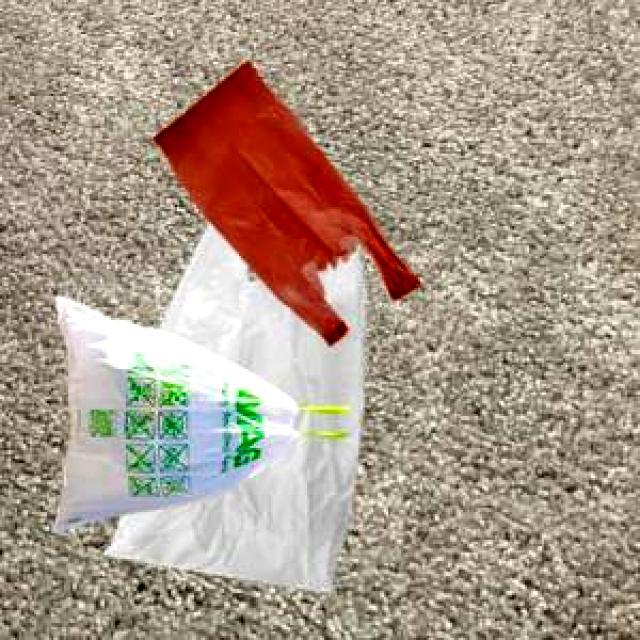Plastic_Bag: (101, 219, 364, 590), (150, 59, 417, 342), (50, 293, 347, 530)
